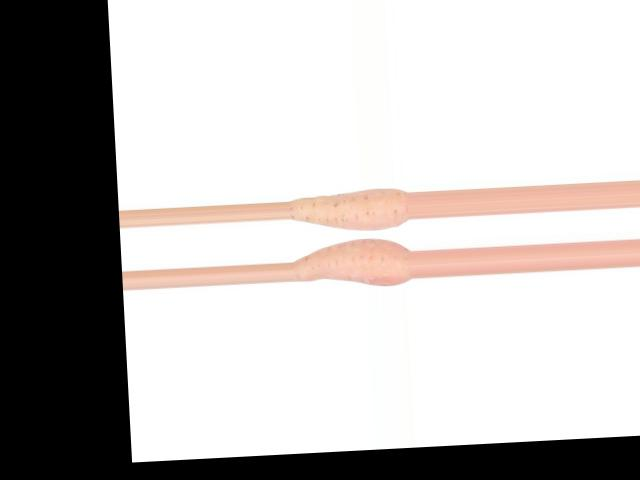sweet_potato: (292, 188, 410, 235)
